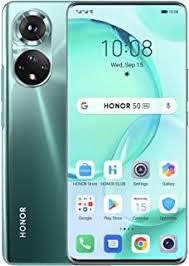Smartphone: (66, 6, 184, 261), (5, 2, 92, 258)
